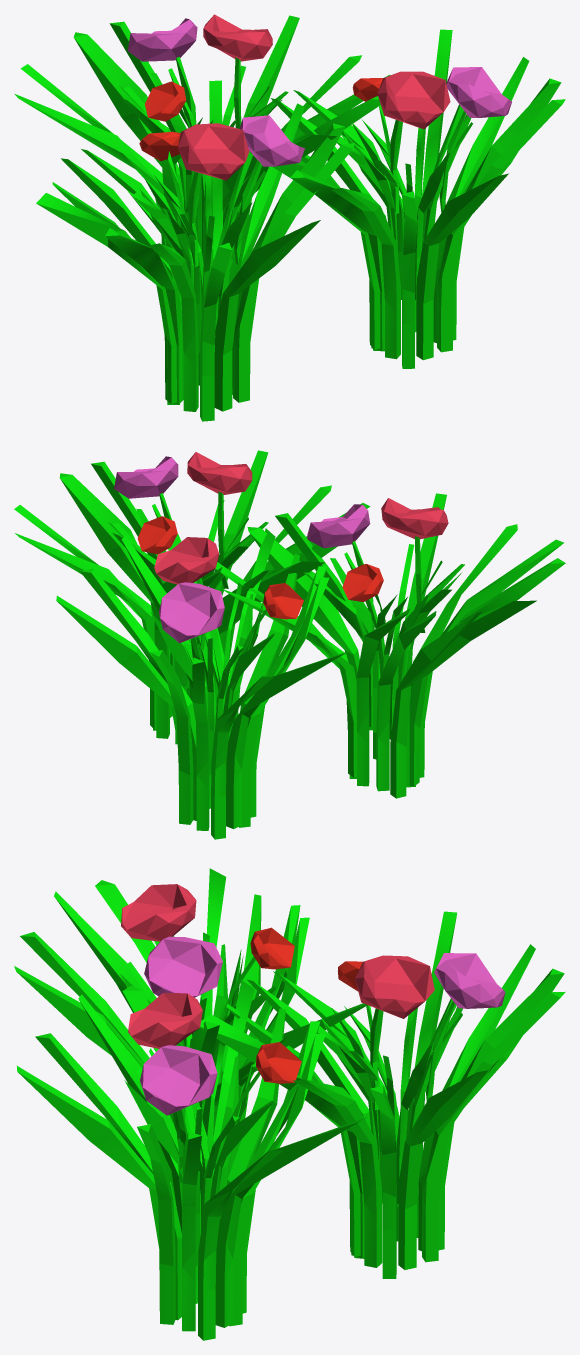
The model's file is cvece2.fbx.
3 views of the same model, one above another, from view 1: azimuth 30°, elevation 25°; view 2: azimuth 150°, elevation 25°; view 3: azimuth 270°, elevation 25° (orthographic). The views are drawn at different scales.
Parts seen in each view (by area): view 1: cvece1; view 2: cvece1; view 3: cvece1.
Boxes of the visible parts, bbox=[...] form: cvece1: bbox=[14, 14, 565, 421]; cvece1: bbox=[14, 450, 565, 839]; cvece1: bbox=[14, 868, 565, 1340].
Bounding box in the file's own units: 88.84 × 47.02 × 74.89.
